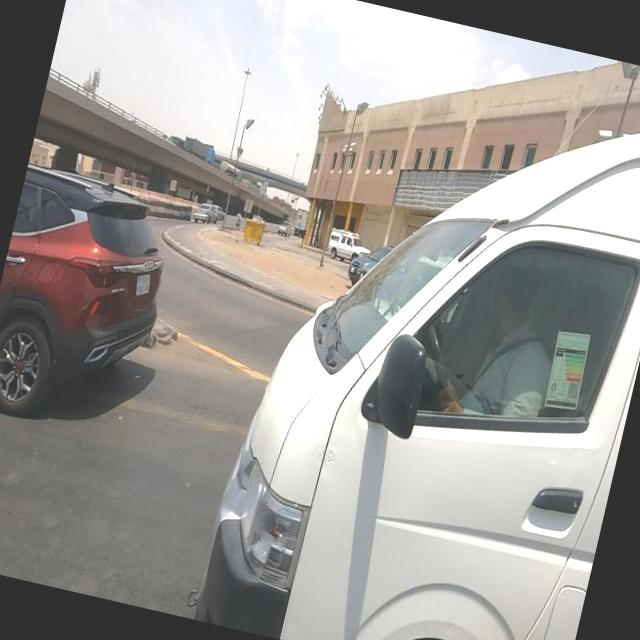debris: (338, 118, 518, 268), (227, 192, 284, 248)
